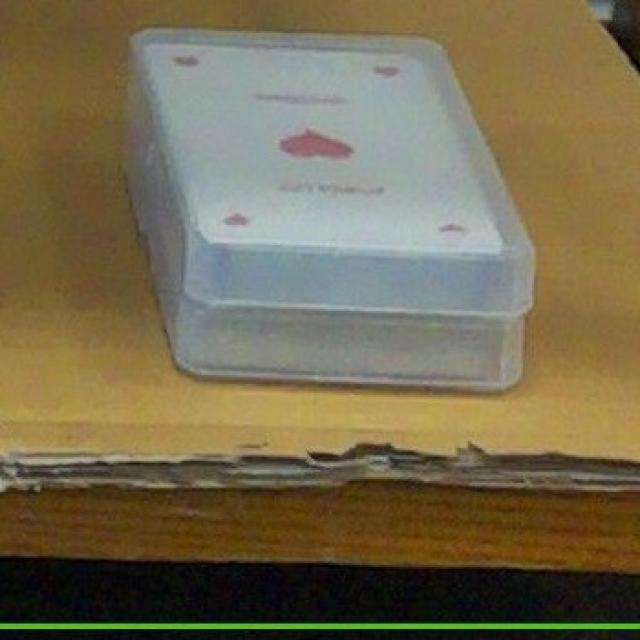Jasskarte: (126, 27, 534, 318), (123, 100, 524, 391)
